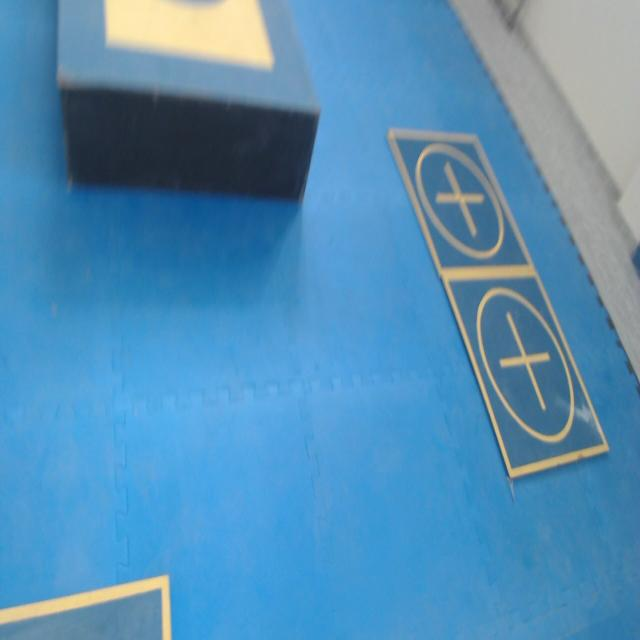base_inicio: (105, 0, 277, 71)
base_pouso: (441, 265, 610, 482), (387, 130, 535, 278), (0, 575, 172, 639)
